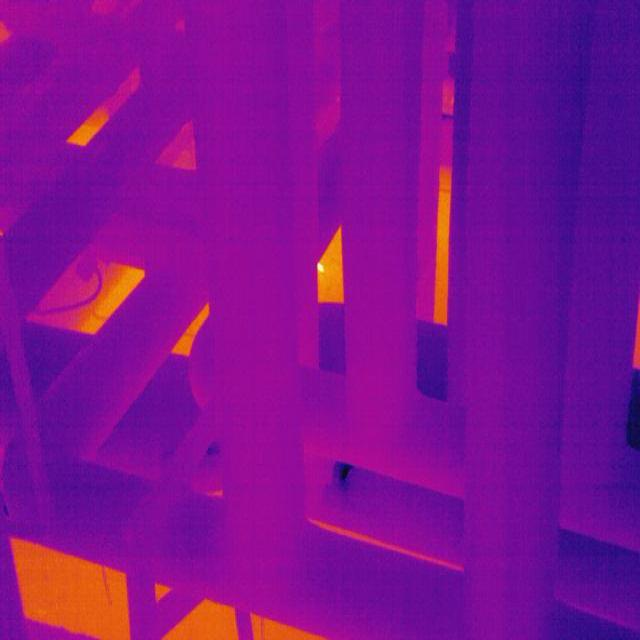leakage: (329, 452, 357, 489)
